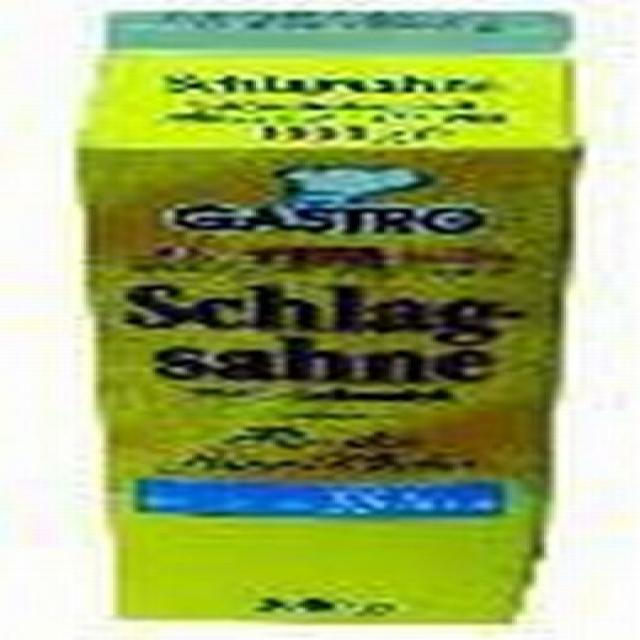Cream: (79, 10, 581, 624)
